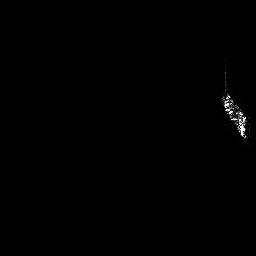ship: (221, 68, 247, 142)
